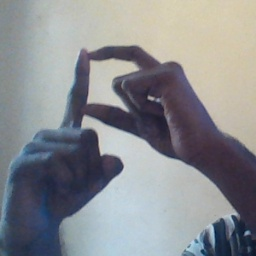D: (56, 39, 181, 151)
